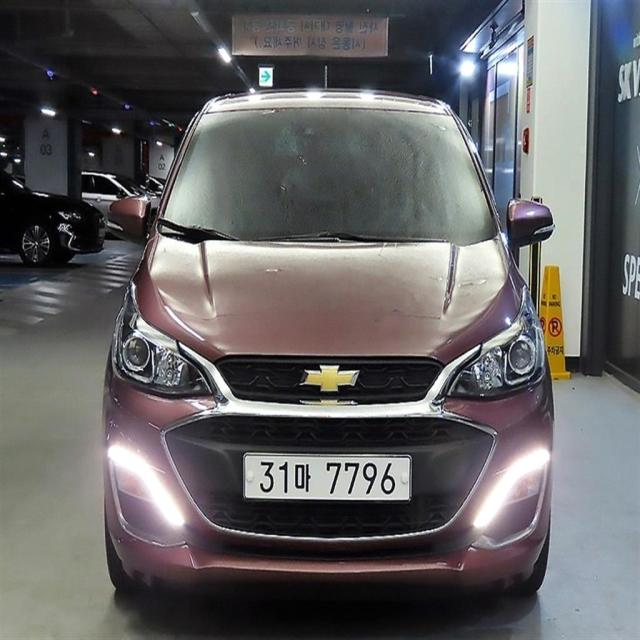car: (96, 82, 564, 610)
illegal_plate: (238, 449, 416, 518)
